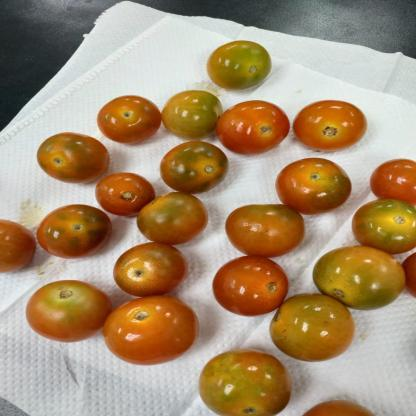T_F_H: (103, 297, 199, 366), (213, 257, 289, 317), (215, 102, 289, 156), (294, 101, 368, 152), (94, 173, 155, 217), (370, 159, 416, 207), (1, 220, 38, 274)
T_F_R: (200, 350, 294, 416), (314, 246, 406, 311), (271, 294, 356, 363), (27, 281, 113, 343), (276, 159, 353, 215), (226, 205, 306, 258), (114, 243, 188, 298), (38, 206, 113, 259), (137, 193, 209, 246), (38, 133, 110, 185), (160, 142, 229, 195), (353, 199, 416, 255), (208, 42, 273, 91), (97, 96, 162, 144), (162, 91, 224, 141)
